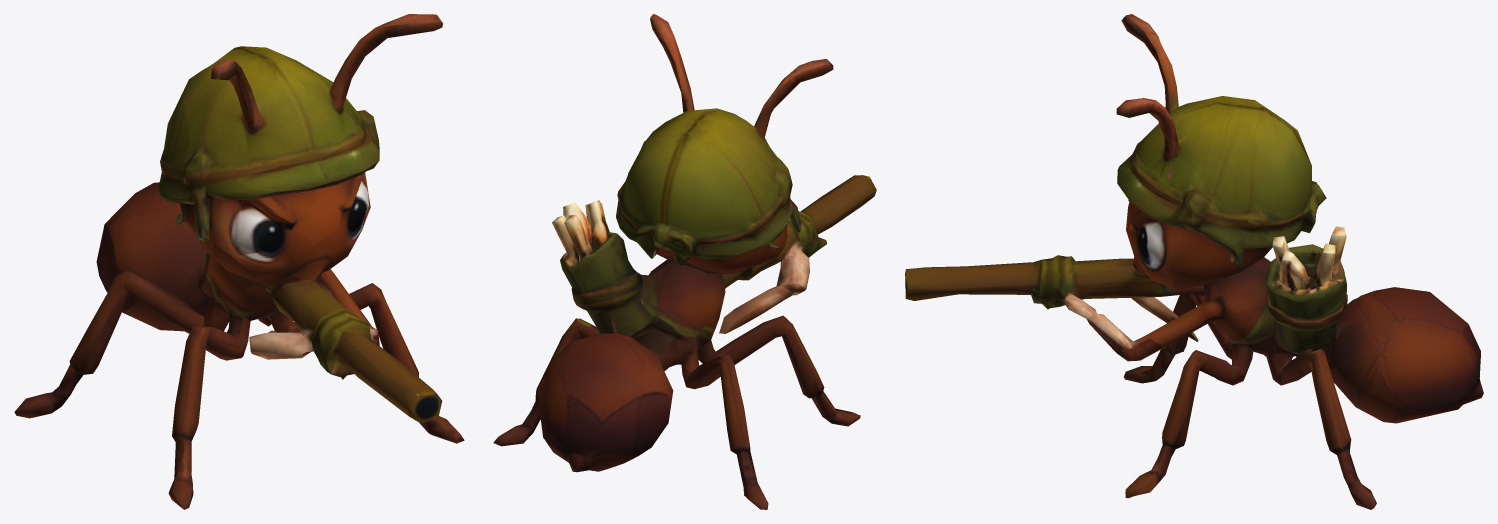
File: CannonAnt.glb
3 views of the same model, side by side, from view 1: azimuth 30°, elevation 25°; view 2: azimuth 150°, elevation 25°; view 3: azimuth 270°, elevation 25° (orthographic). The views are drawn at different scales.
Size of the model in its own units: 1.16 by 1.45 by 1.98.
Materials: 1 (1 with a texture image).
